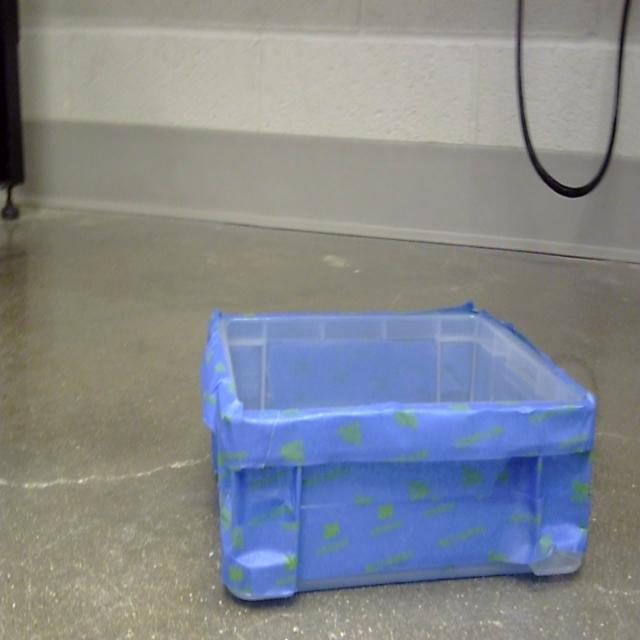bucket: (200, 302, 598, 608)
